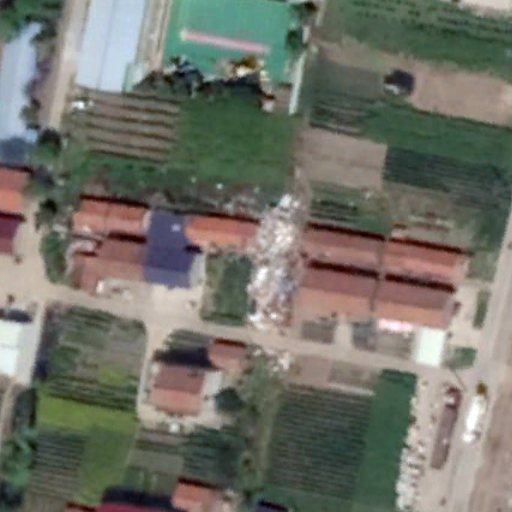msw: (248, 194, 306, 333)
